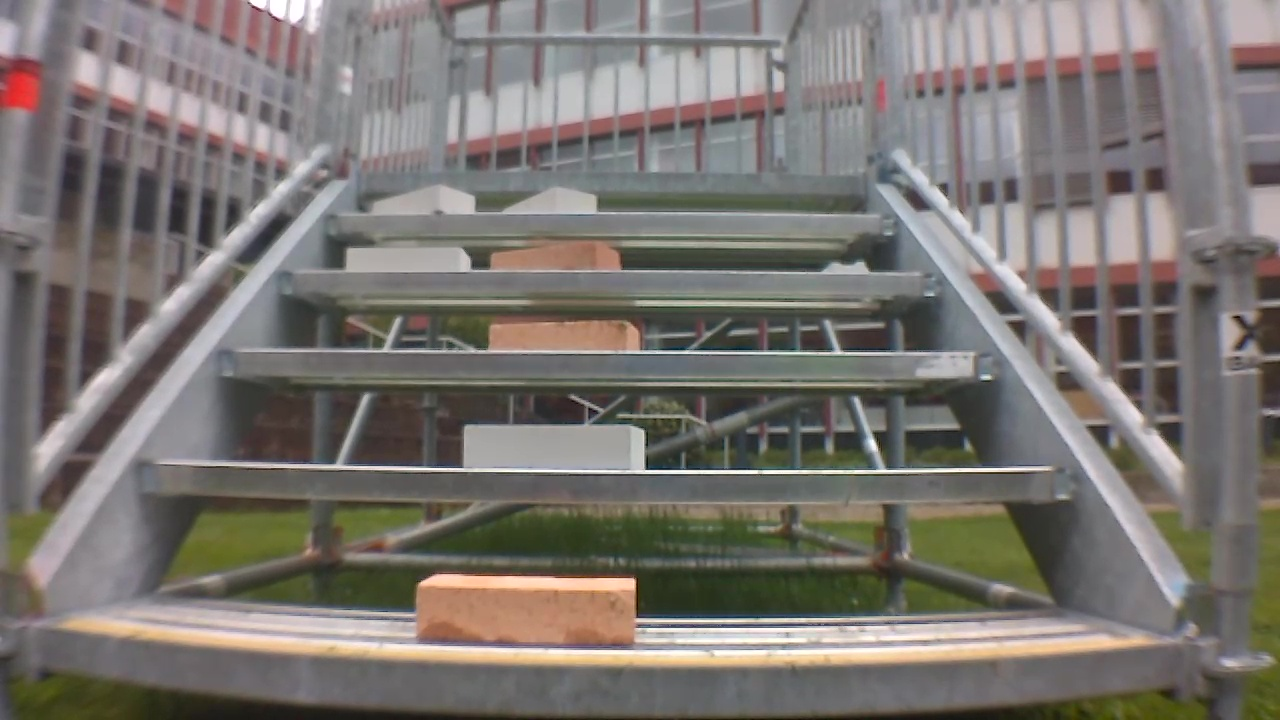brick: (417, 574, 635, 645), (462, 425, 643, 471), (490, 321, 638, 350), (492, 238, 619, 271), (347, 247, 470, 270), (373, 185, 474, 212), (503, 188, 596, 214)
edge: (38, 630, 1182, 715), (135, 460, 1079, 502), (217, 350, 1001, 377), (281, 270, 945, 295), (327, 212, 899, 233), (361, 172, 872, 193)
stairs: (4, 4, 1271, 719)
steps: (30, 169, 1190, 720)
